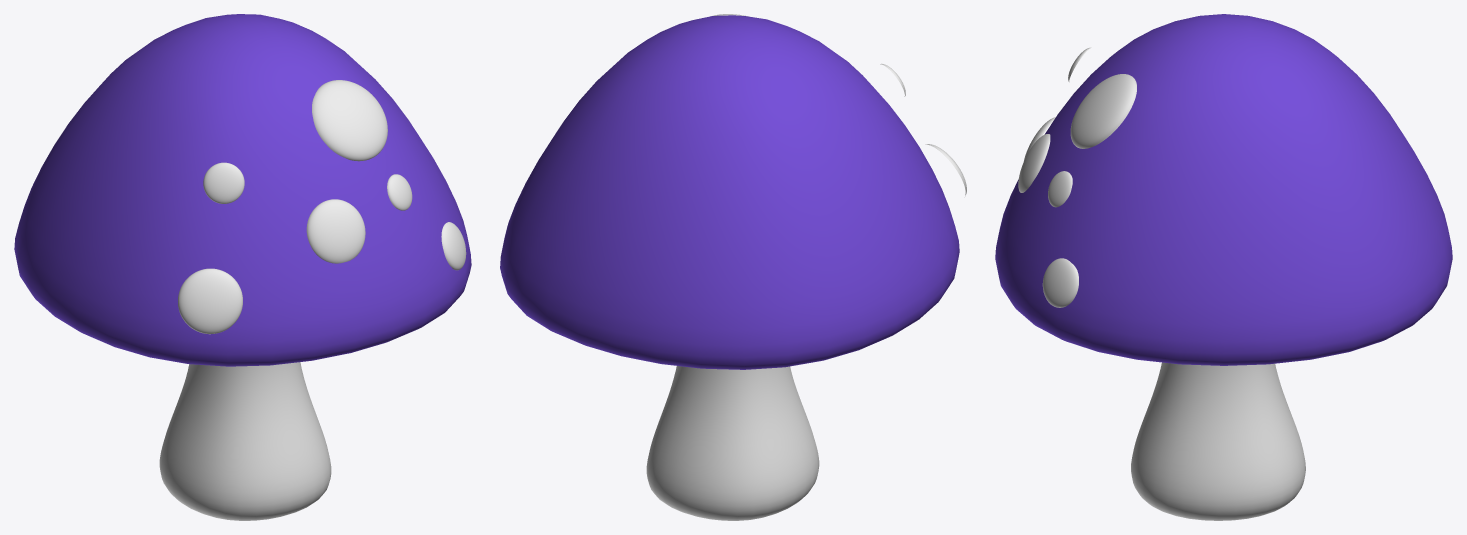
Rendered from hongo_lila.glb.
The picture shows the model from 3 angles, left to right: view 1: azimuth 30°, elevation 25°; view 2: azimuth 150°, elevation 25°; view 3: azimuth 270°, elevation 25°; orthographic projection.
Parts seen in each view (by area): view 1: Cubo.001, Cubo, Esfera.002, Esfera.005, Esfera, Esfera.001, Esfera.004, Esfera.003; view 2: Cubo.001, Cubo; view 3: Cubo.001, Cubo, Esfera.002, Esfera.004, Esfera, Esfera.003.
Part boxes in pixels (bbox=[...]): Cubo.001: bbox=[14, 14, 471, 366]; Cubo: bbox=[159, 362, 331, 520]; Esfera.002: bbox=[312, 80, 387, 161]; Esfera.005: bbox=[178, 268, 242, 334]; Esfera: bbox=[306, 199, 365, 263]; Esfera.001: bbox=[203, 162, 244, 203]; Esfera.004: bbox=[441, 222, 466, 270]; Esfera.003: bbox=[387, 174, 412, 210]; Cubo.001: bbox=[500, 15, 959, 369]; Cubo: bbox=[646, 366, 819, 520]; Cubo.001: bbox=[995, 14, 1452, 365]; Cubo: bbox=[1131, 362, 1305, 520]; Esfera.002: bbox=[1070, 74, 1136, 148]; Esfera.004: bbox=[1042, 258, 1078, 307]; Esfera: bbox=[1018, 134, 1050, 192]; Esfera.003: bbox=[1048, 171, 1072, 207].
Bounding box in the file's own units: 5.2 × 6.06 × 5.3.
